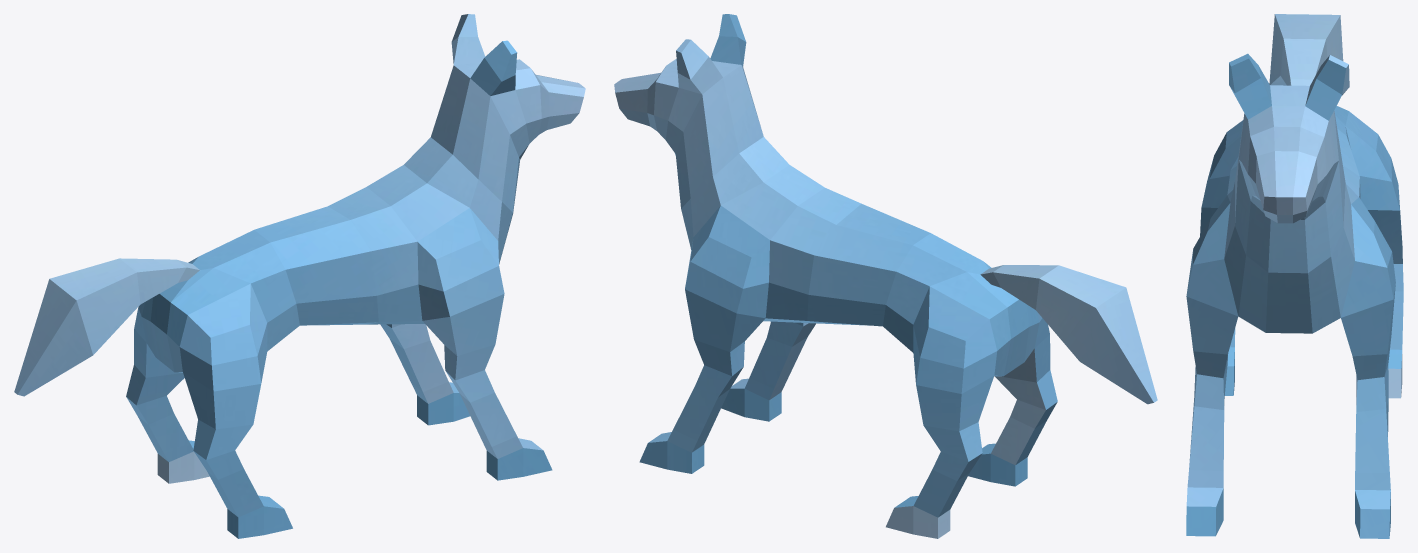
File: pas.obj
The picture shows the model from 3 angles, left to right: view 1: azimuth 30°, elevation 25°; view 2: azimuth 150°, elevation 25°; view 3: azimuth 270°, elevation 25°; orthographic projection. The views are drawn at different scales.
Visible parts, largest first — view 1: Mesh_LPDog_M_0; view 2: Mesh_LPDog_M_0; view 3: Mesh_LPDog_M_0.
Part boxes in pixels (x1,y1,x2,y2): Mesh_LPDog_M_0: (14, 14, 585, 538); Mesh_LPDog_M_0: (614, 14, 1157, 538); Mesh_LPDog_M_0: (1186, 14, 1403, 538).
Bounding box in the file's own units: 0.0521 × 0.0372 × 0.0156.
1 material, 1 textured.
